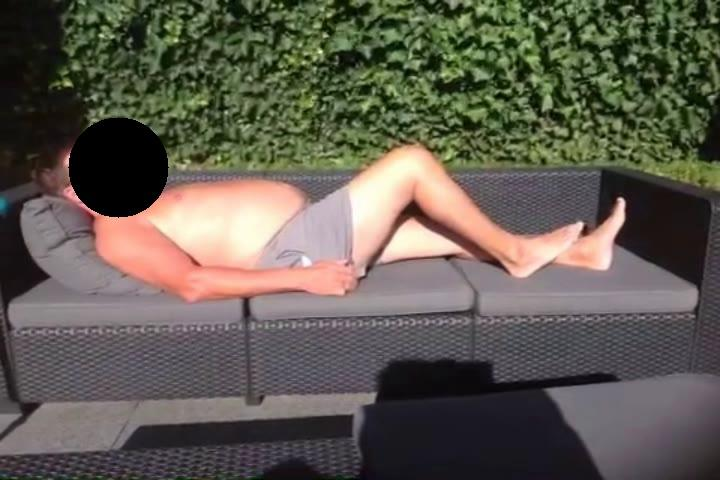lower_body: (284, 143, 630, 283)
